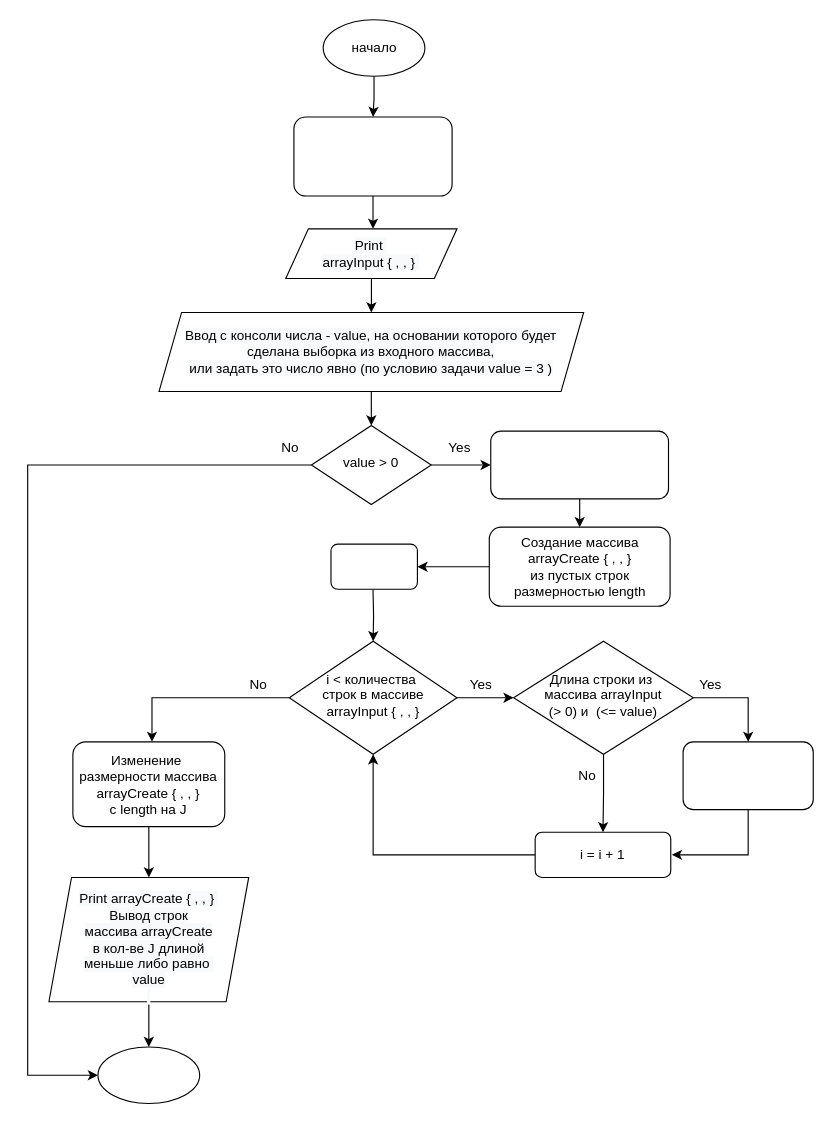
This 834x1123 diagram has some shape labels left out. The shapes that lost their labels are listed below. From the top down, each one's centre as x and y in pixels, then its label:
point (372, 156): Создание одномерного массива строк arrayInput { , , }
point (579, 464): length - количество строк во входном массиве arrayInput { , , }
point (373, 566): i = 0 J = 0
point (747, 775): arrayCreate[J] = arrayInput[i] J = J + 1
point (148, 1074): конец
